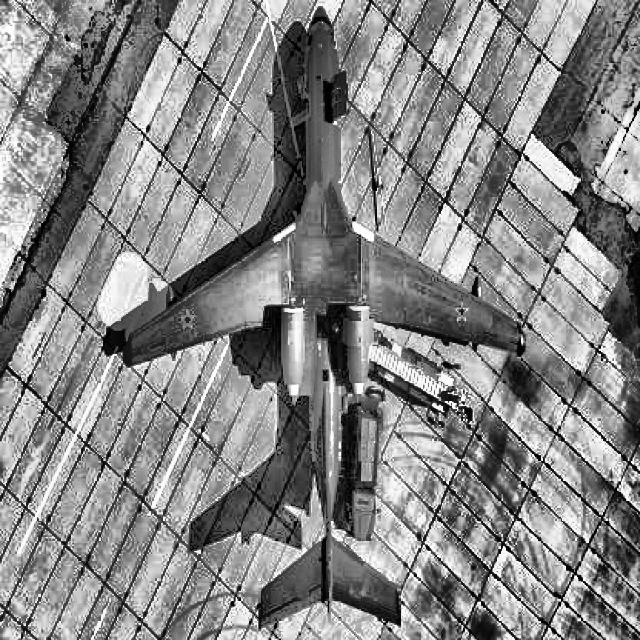Be200: (122, 6, 527, 636)
